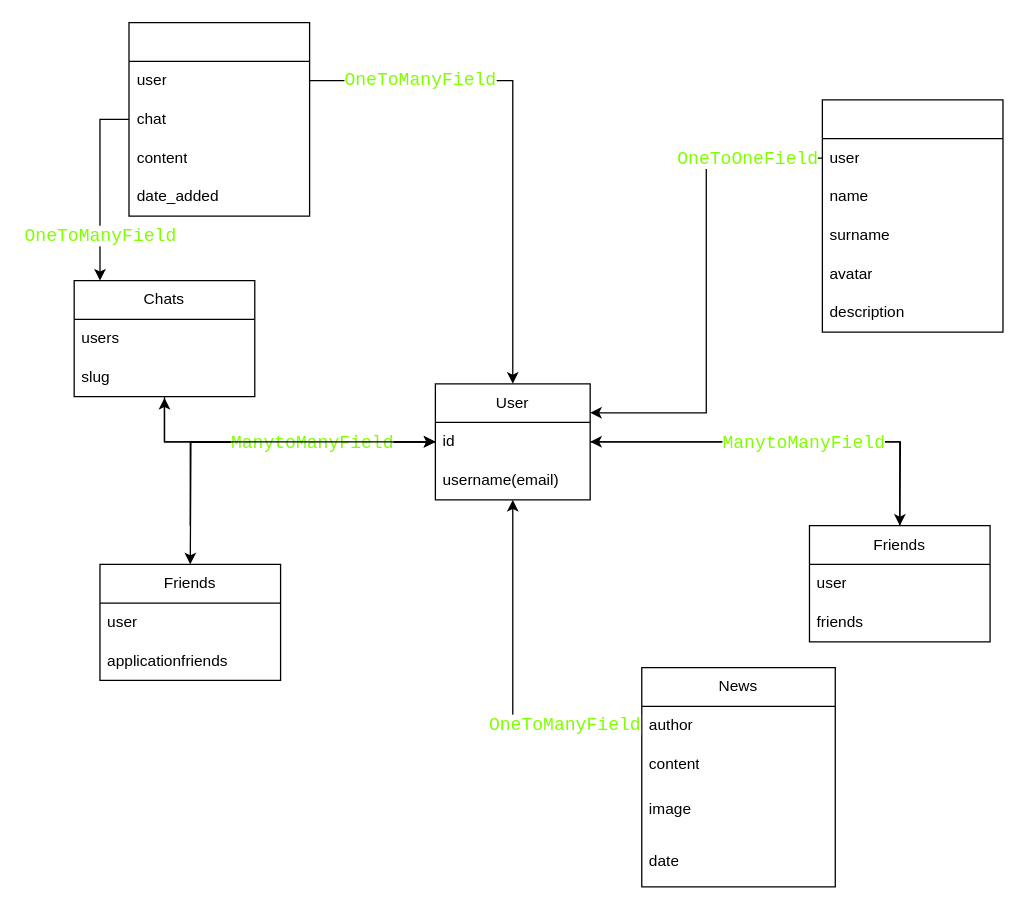
Image size: 1026x909. Some labels were removed from this diagram. Each missing label, with the box of its shape:
Messege: (128, 21, 310, 216)
Profile: (821, 99, 1003, 332)
